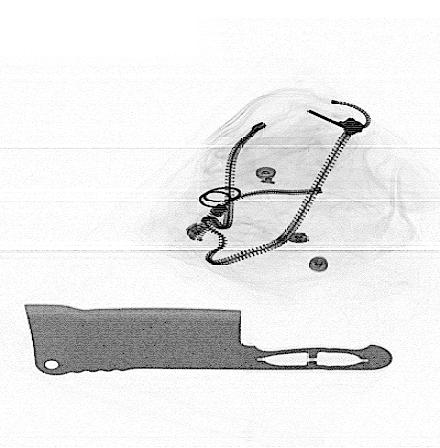Knife: (24, 304, 395, 378)
